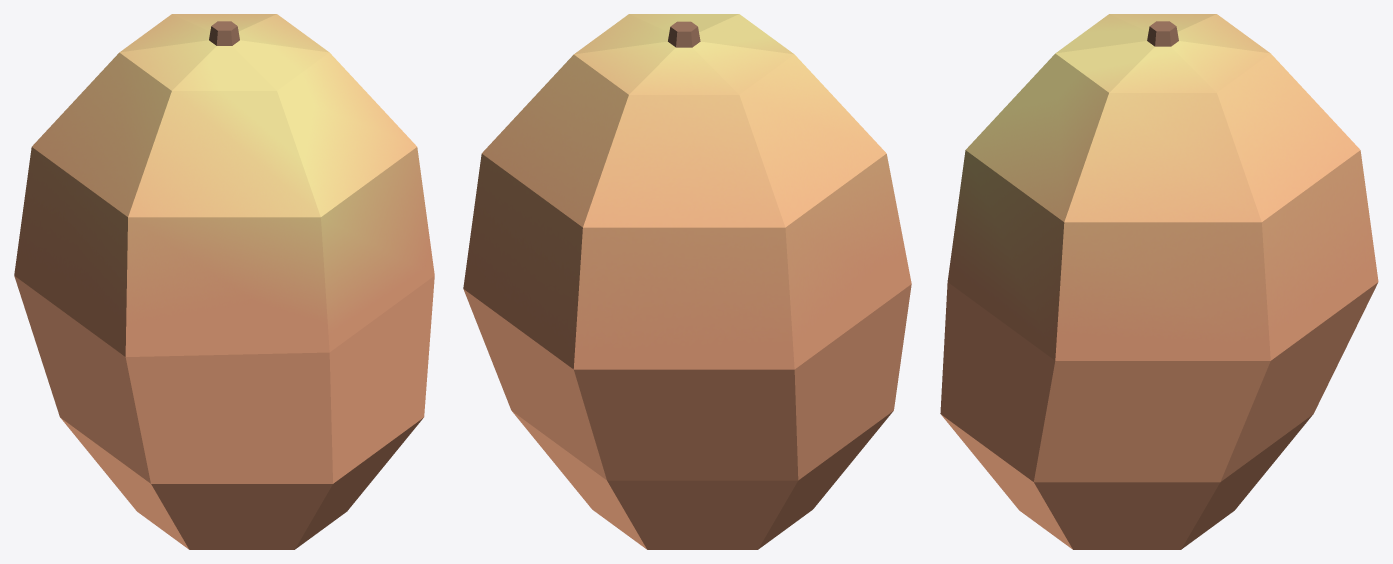
The model's file is mango.fbx.
3 views of the same model, side by side, from view 1: azimuth 30°, elevation 25°; view 2: azimuth 150°, elevation 25°; view 3: azimuth 270°, elevation 25° (orthographic). The views are drawn at different scales.
Visible parts, largest first — view 1: Sphere; view 2: Sphere; view 3: Sphere.
Boxes of the visible parts, x1,y1,x2,y2 form: Sphere: (14,14,434,549); Sphere: (463,14,911,549); Sphere: (940,14,1378,549).
Size of the model in its own units: 173 by 266 by 203.
